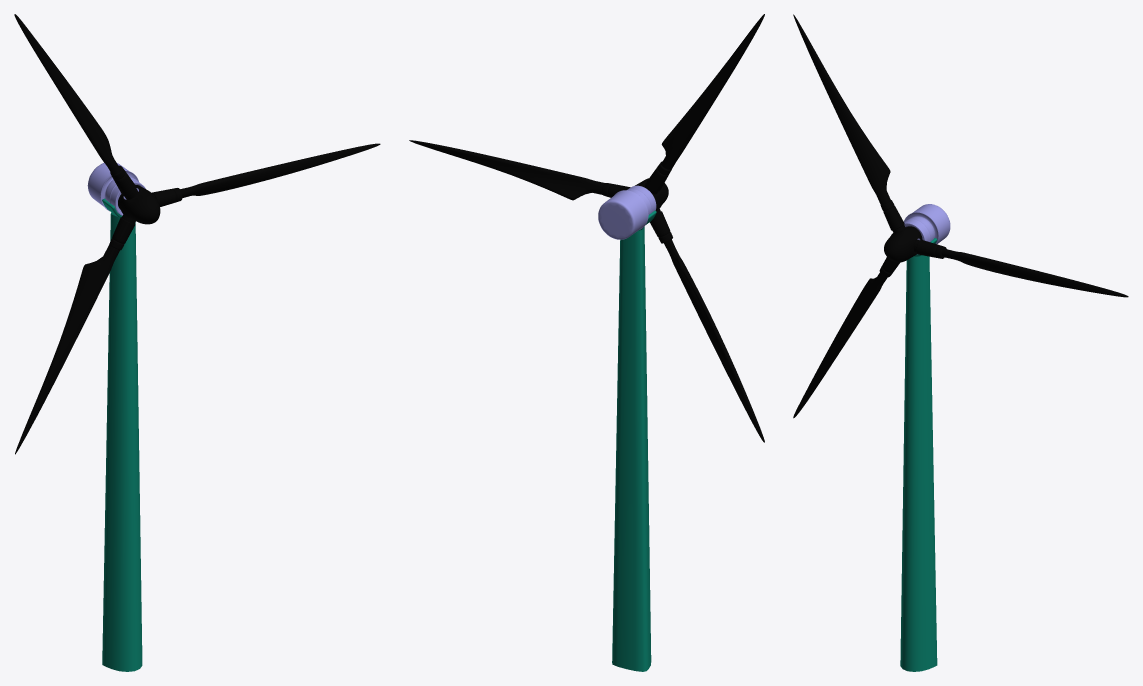
The model's file is Turbine.FBX.
The picture shows the model from 3 angles, left to right: view 1: azimuth 30°, elevation 25°; view 2: azimuth 150°, elevation 25°; view 3: azimuth 330°, elevation 25°; orthographic projection. The views are drawn at different scales.
Parts seen in each view (by area): view 1: Cylinder02, elice005, elice004, elice02, Cylinder01, Gengon01; view 2: Cylinder02, elice02, elice004, Cylinder01, elice005; view 3: Cylinder02, elice004, elice02, elice005, Cylinder01, Gengon01.
Part boxes in pixels (x1,y1,x2,y2): Cylinder02: (102,165,182,671); elice005: (15,244,119,454); elice004: (14,14,119,180); elice02: (180,143,380,197); Cylinder01: (87,163,145,215); Gengon01: (118,185,160,224); Cylinder02: (602,161,672,671); elice02: (409,140,604,200); elice004: (661,14,764,169); Cylinder01: (598,185,656,239); elice005: (664,239,764,442); Cylinder02: (879,200,946,671); elice004: (793,14,890,205); elice02: (941,248,1128,297); elice005: (793,273,887,418); Cylinder01: (904,204,950,254); Gengon01: (884,226,922,262).
Size of the model in its own units: 209 by 48.14 by 377.
